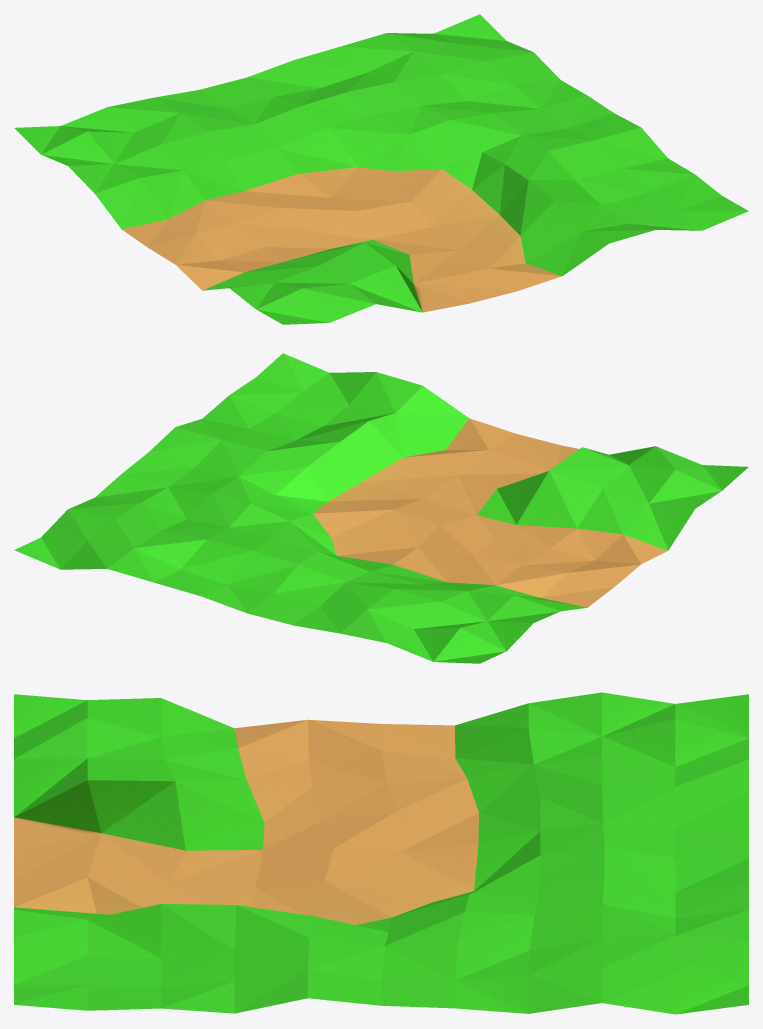
Rendered from road0011.glb.
3 renders of one model, top to bottom at view 1: azimuth 30°, elevation 25°; view 2: azimuth 150°, elevation 25°; view 3: azimuth 270°, elevation 25°, orthographic. The views are drawn at different scales.
Visible parts, largest first — view 1: Plain_Down.001; view 2: Plain_Down.001; view 3: Plain_Down.001.
Part boxes in pixels (box(x1,y1,x2,y2)): Plain_Down.001: box(14, 14, 748, 324); Plain_Down.001: box(14, 353, 748, 663); Plain_Down.001: box(14, 692, 748, 1014).
Bounding box in the file's own units: 10 × 0.6869 × 10.
Materials: 2 (2 with a texture image).
